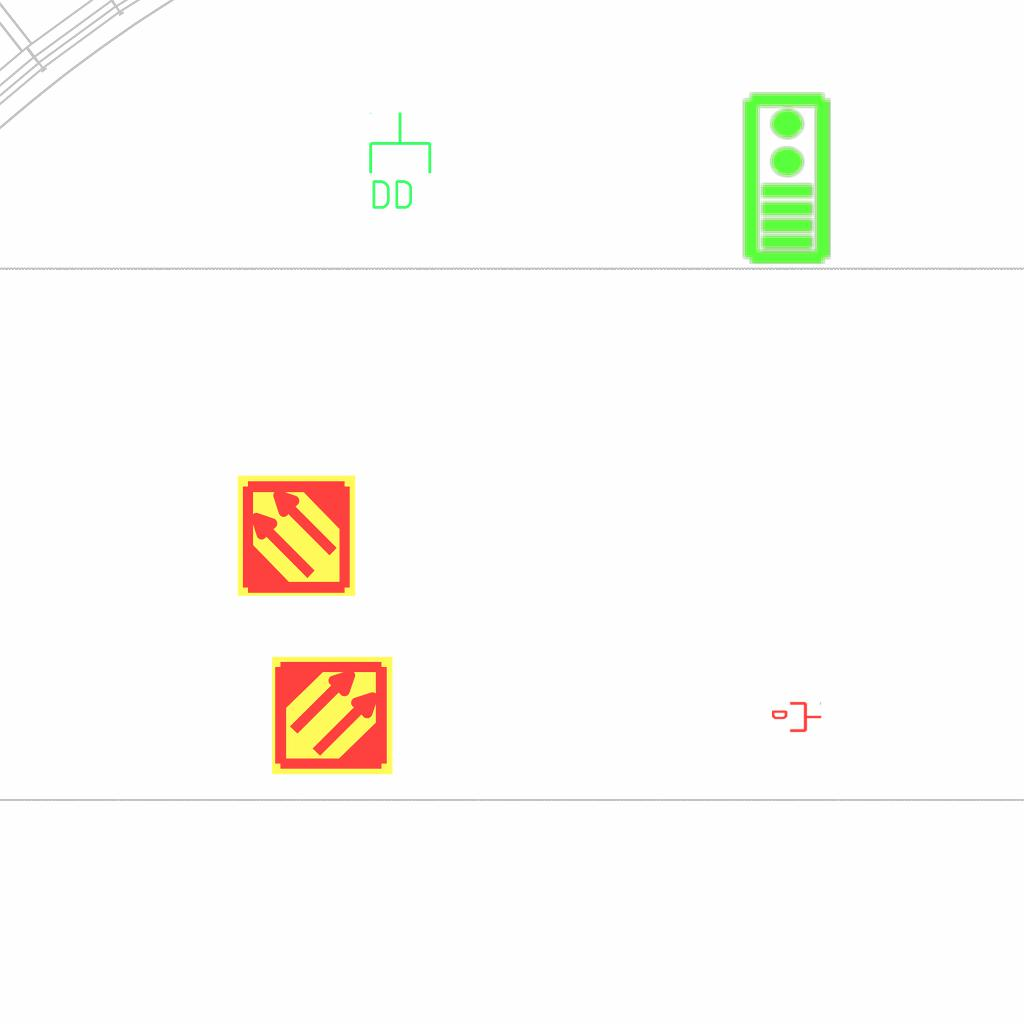ASR_Ansaugrauchmelder: (234, 473, 359, 598), (270, 653, 395, 778)
Datenanschluss_einfach: (772, 700, 822, 734)
Datenanschluss_zweifach: (365, 110, 434, 213)
Gegensprechanlage_mit_Video: (738, 90, 833, 266)
